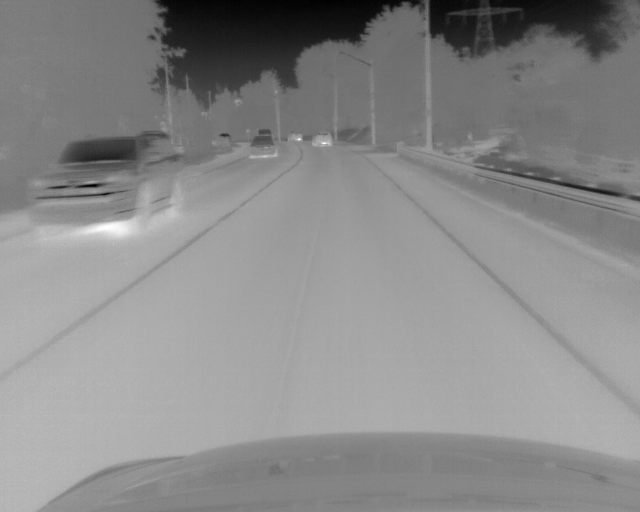car: (25, 130, 185, 235), (248, 128, 278, 160), (311, 130, 332, 149), (287, 131, 304, 143)
